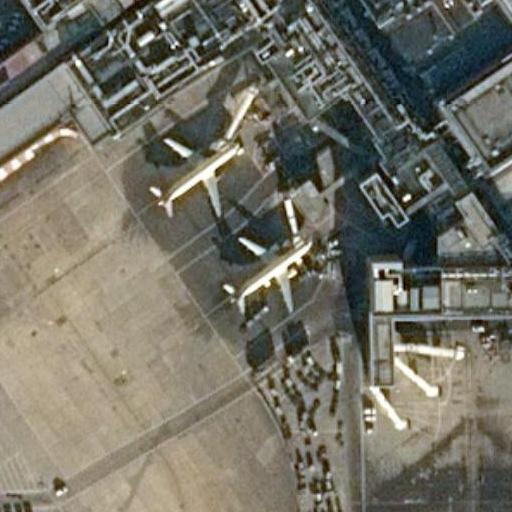Aircraft: (143, 129, 244, 220), (218, 227, 316, 317)
